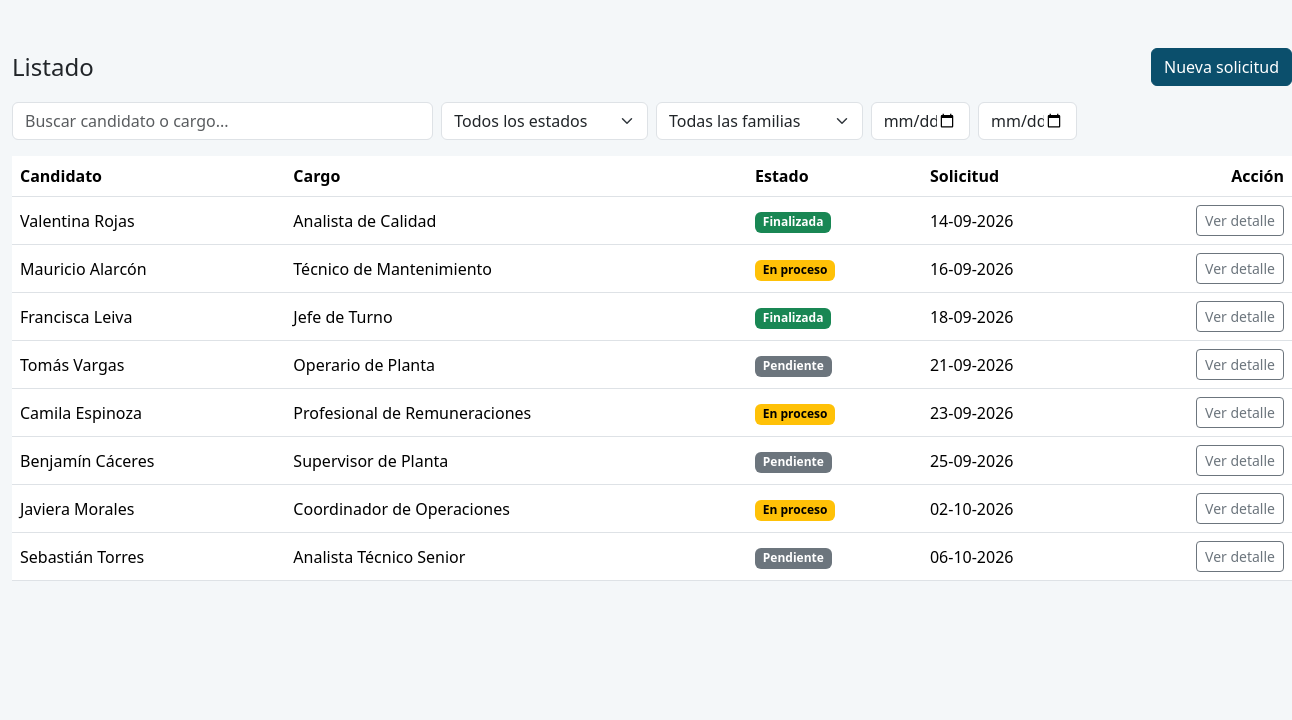
Test: BandejaSolicitudes › muestra mensaje vacío cuando ningún registro coincide
In the field labelled "Buscar candidato o cargo...": (223, 121) [12,102,433,140], type "no-existe-esteelemento"
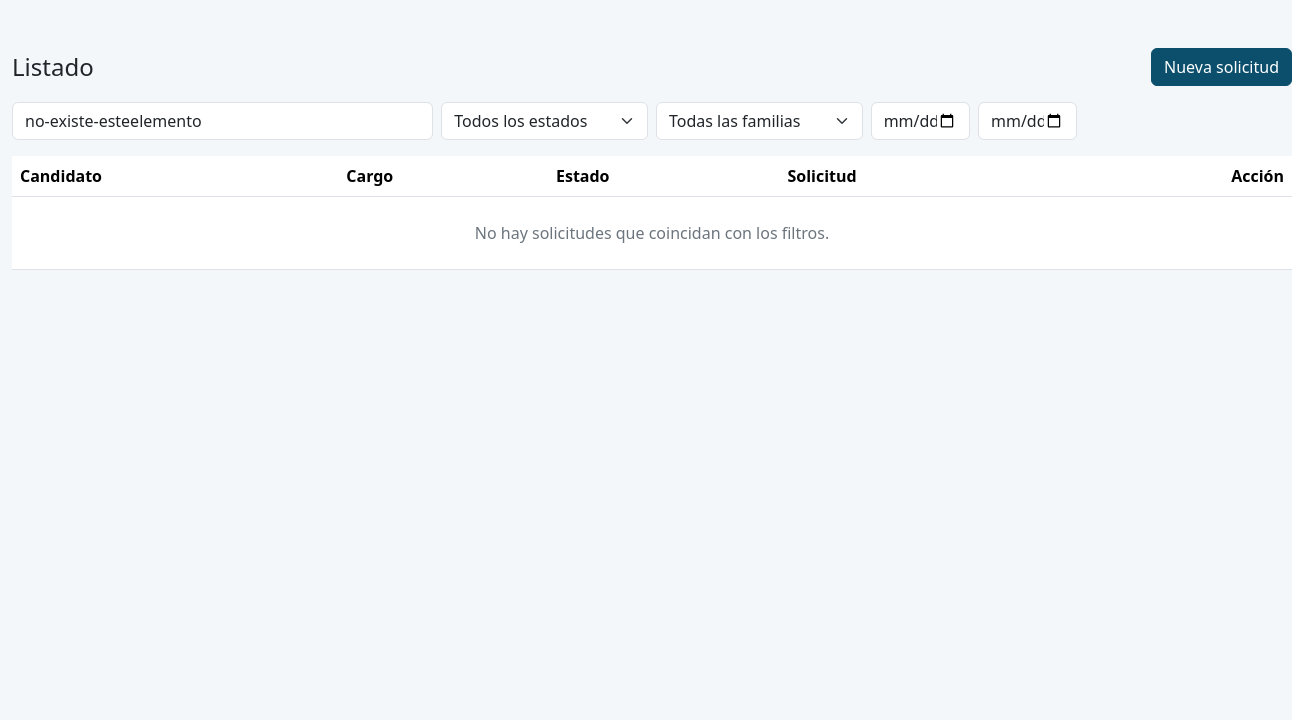
Expected: the text "No hay solicitudes que coincidan con los filtros." is shown, [12,196,1291,270]
